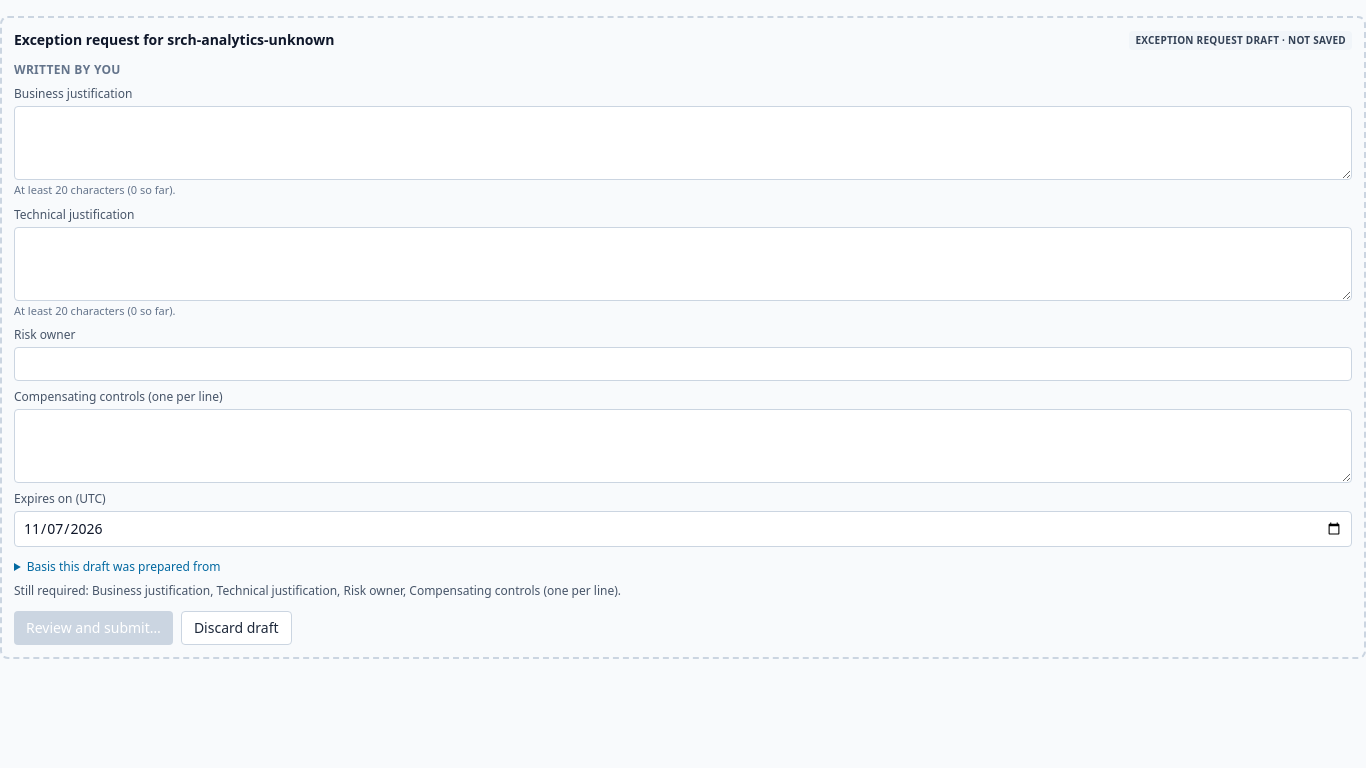
Test case: draft fixes › shows the reasons of a DRAFT_BLOCKED refusal and keeps the typed values
Type "Analytics exploration needs public access this quarter." into the text box with test id "ws-draft-field-business_justification" at (683, 143), box [14,106,1352,180]
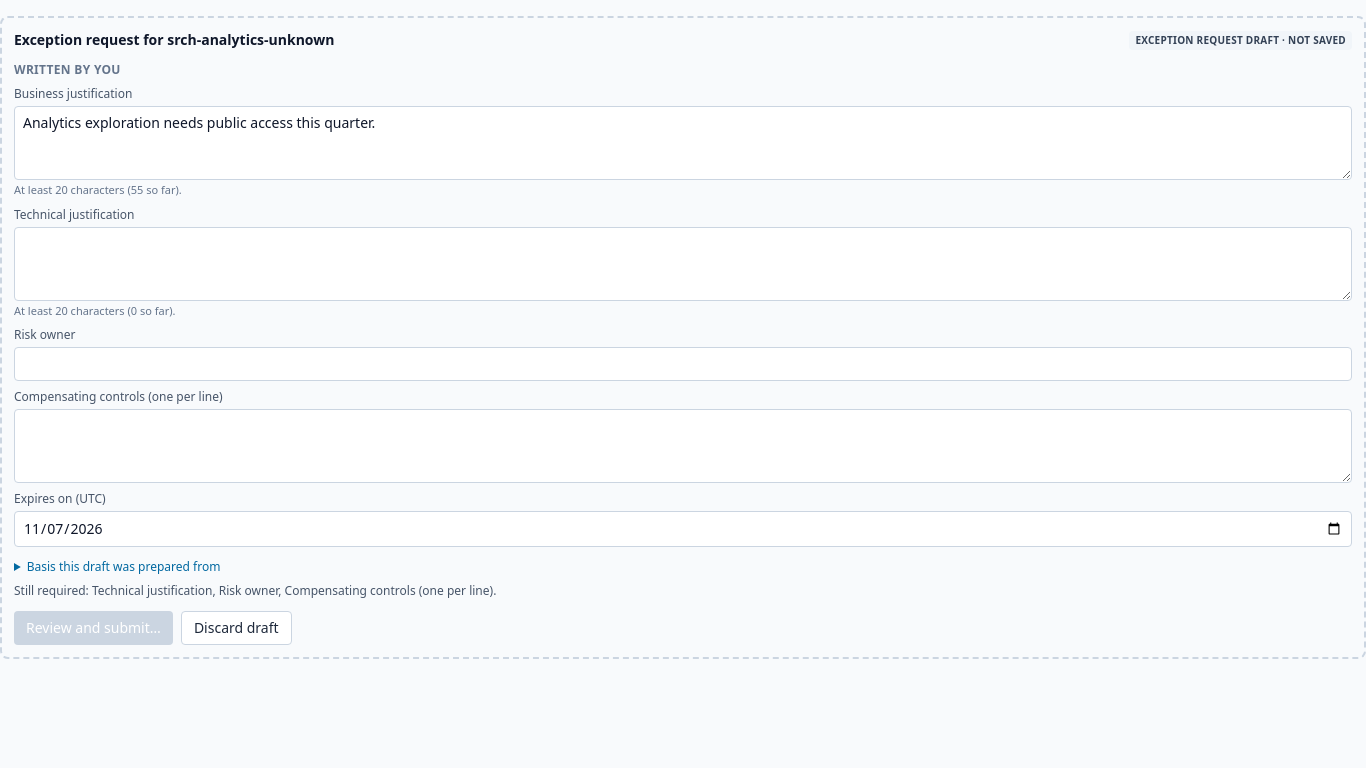
Type "Private endpoint rollout for analytics is scheduled." into the text box with test id "ws-draft-field-technical_justification" at (683, 264), box [14,226,1352,300]
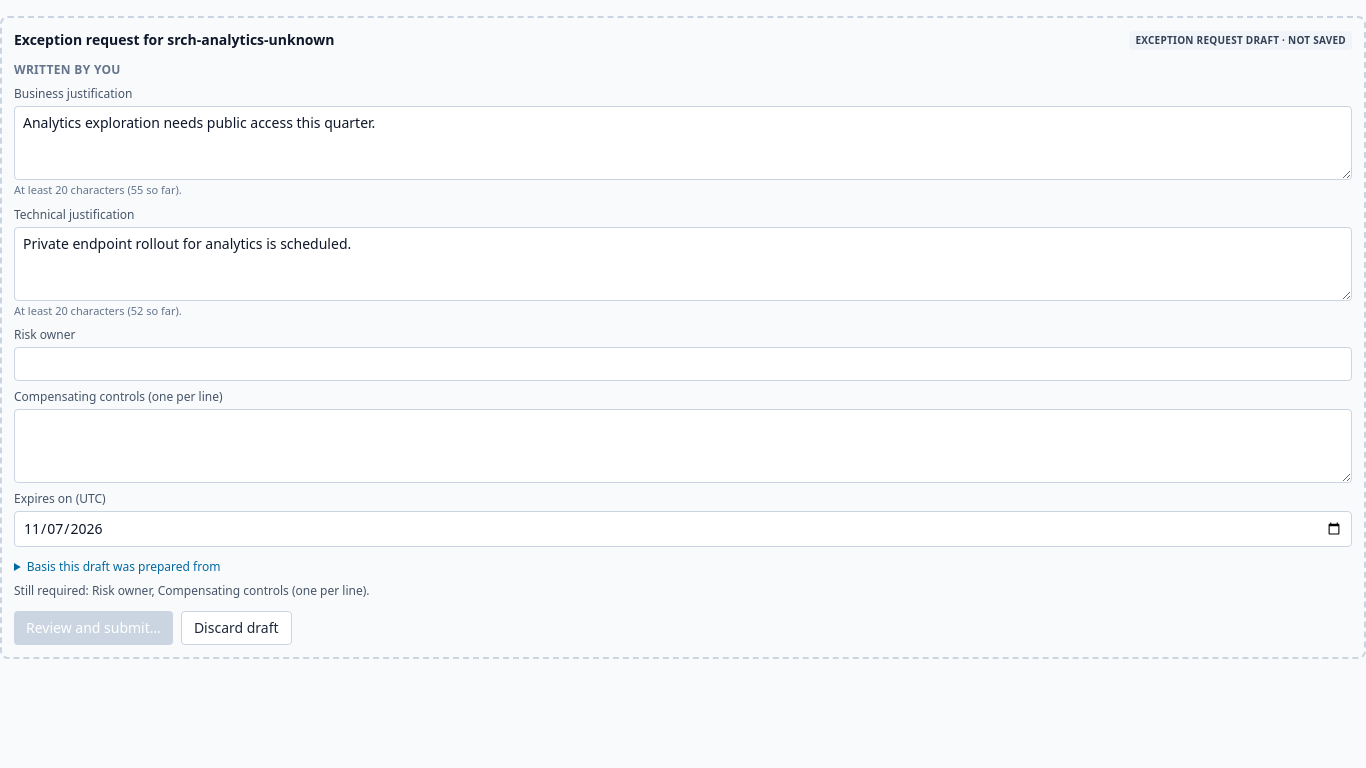
Type "Analytics lead" into the field with test id "ws-draft-field-risk_owner" at (683, 364), box [14,347,1352,381]
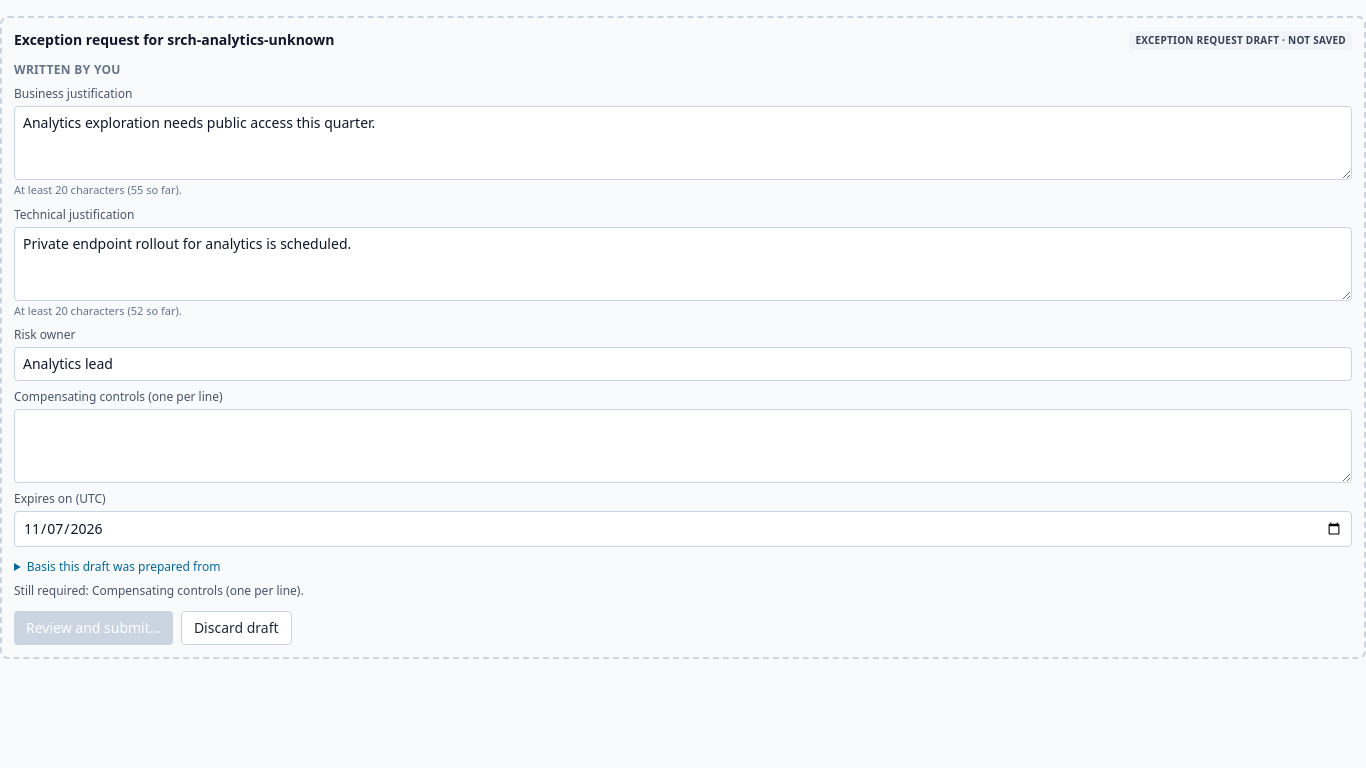
Type "IP allow-list" into the text box with test id "ws-draft-field-compensating_controls" at (683, 446), box [14,409,1352,483]
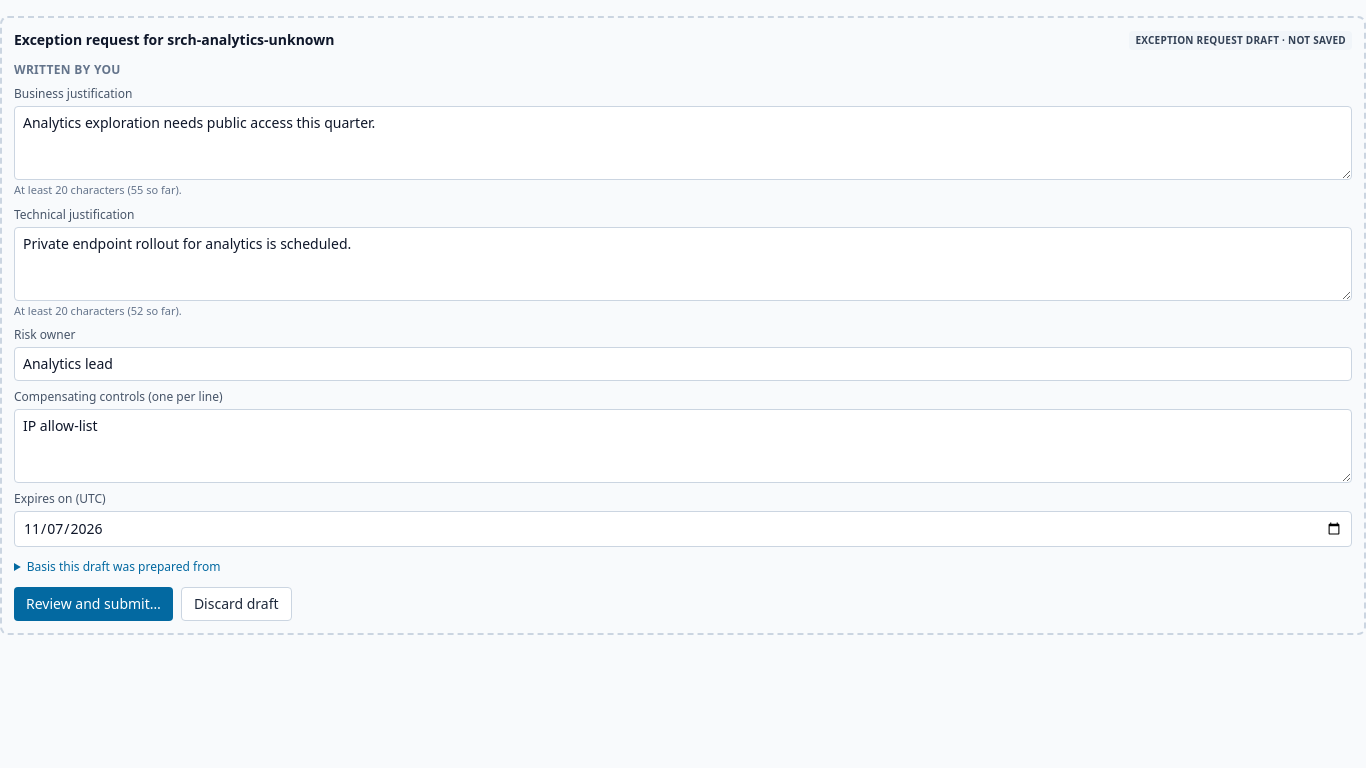
Click the button with test id "ws-draft-submit" at (93, 604), box [14,587,173,621]
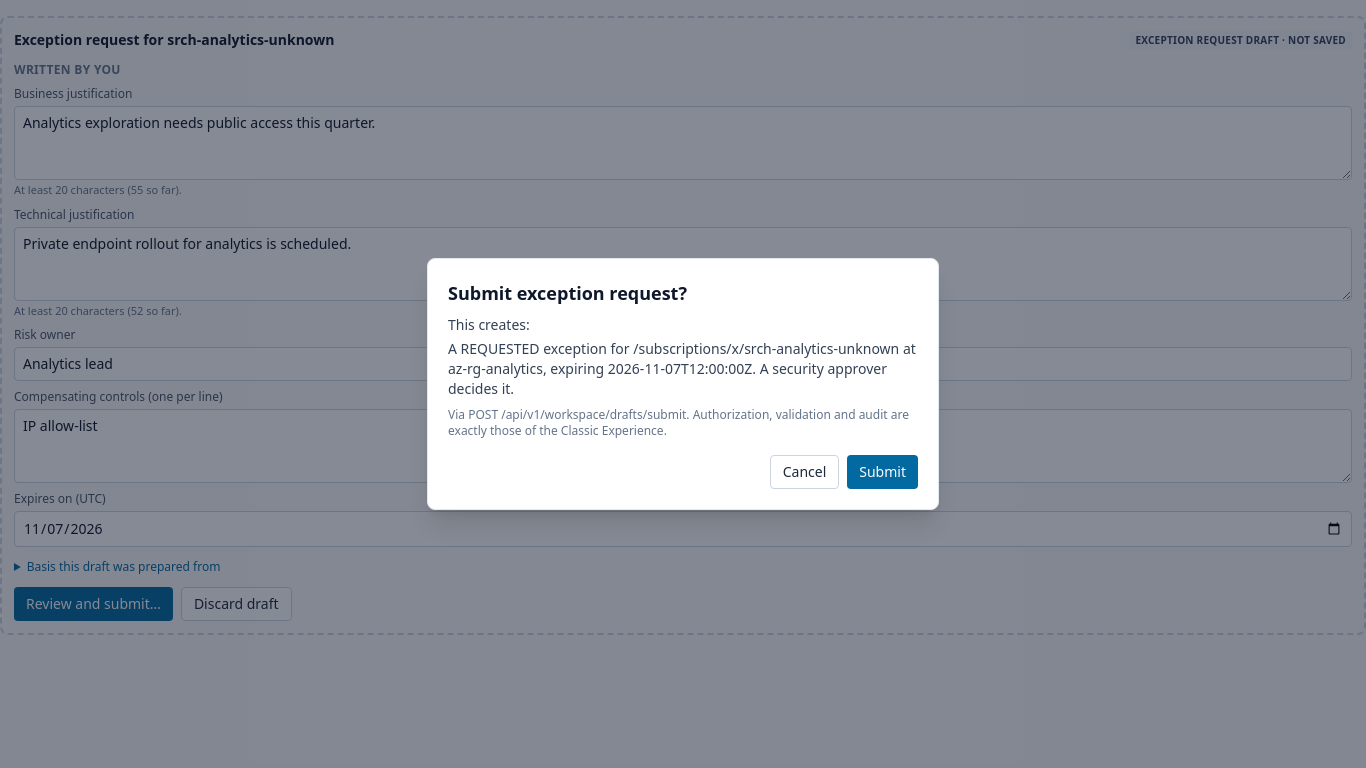
Click the button with test id "ws-confirm" at (883, 472), box [847,455,918,489]
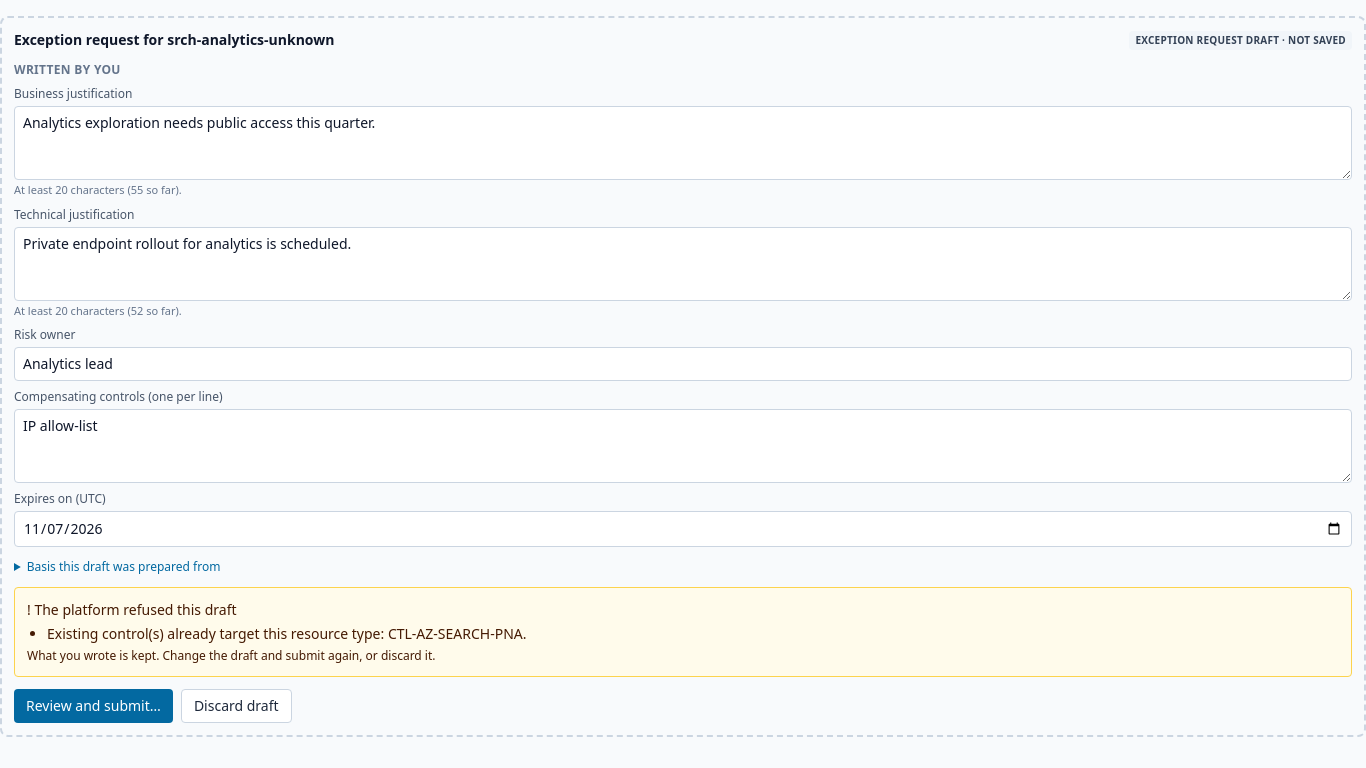
Check: the element with test id "ws-draft-blocked" shows "CTL-AZ-SEARCH-PNA", box [47,624,526,643]
